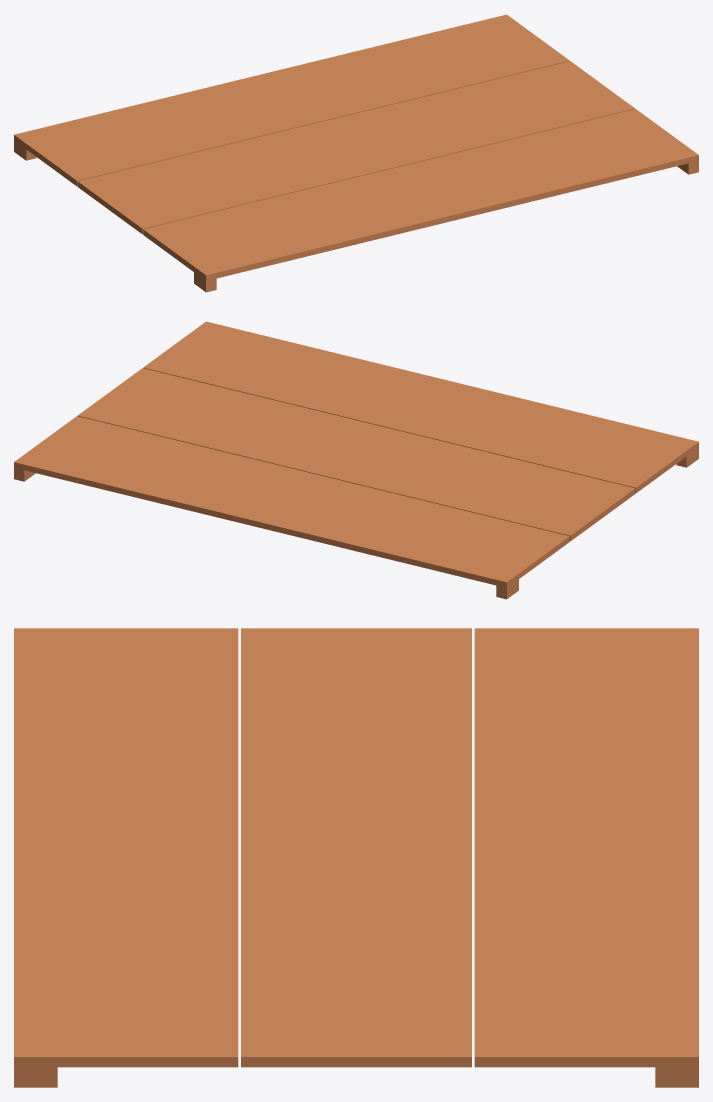
Rendered from Props_BoxFrame_03.fbx.
3 renders of one model, top to bottom at view 1: azimuth 30°, elevation 25°; view 2: azimuth 150°, elevation 25°; view 3: azimuth 270°, elevation 25°, orthographic. The views are drawn at different scales.
Parts seen in each view (by area): view 1: Props_BoxFrame_03; view 2: Props_BoxFrame_03; view 3: Props_BoxFrame_03.
Boxes of the visible parts, bbox=[...] form: Props_BoxFrame_03: bbox=[14, 14, 698, 292]; Props_BoxFrame_03: bbox=[14, 321, 698, 599]; Props_BoxFrame_03: bbox=[14, 628, 698, 1087].
Size of the model in its own units: 296 by 9.82 by 200.
